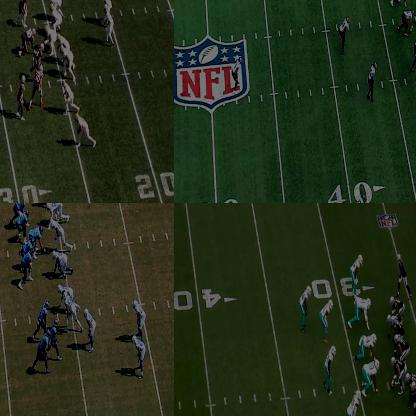CENTER: (389, 354, 406, 388), (42, 25, 55, 49), (31, 224, 44, 242)
DB: (132, 336, 146, 378), (85, 305, 95, 352), (300, 287, 310, 332), (17, 73, 26, 119), (351, 255, 362, 287), (368, 61, 377, 97), (134, 300, 144, 326), (353, 190, 366, 202)
LB: (66, 292, 81, 332), (50, 219, 68, 251), (34, 60, 44, 103), (320, 300, 332, 332), (328, 344, 338, 380), (17, 0, 30, 27), (348, 390, 360, 415), (339, 20, 348, 53)
QB: (106, 10, 115, 48)
SKILL: (75, 111, 90, 145), (40, 330, 51, 376), (62, 80, 77, 113), (398, 253, 410, 293), (50, 317, 61, 357), (38, 299, 50, 334), (388, 296, 405, 313), (103, 0, 113, 13)
